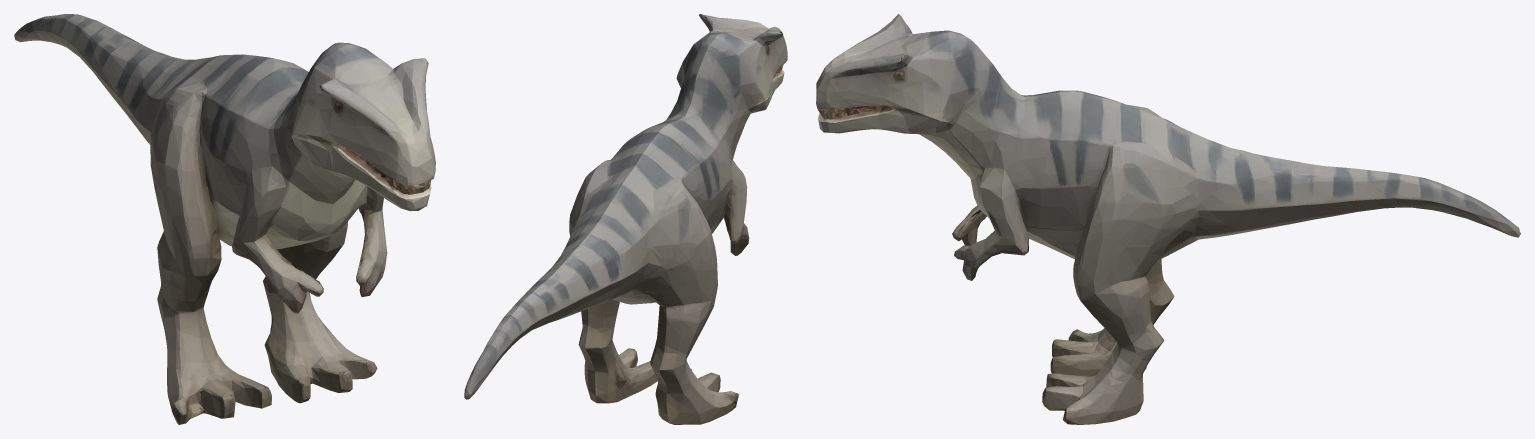
The model's file is giganotosaurus.glb.
3 renders of one model, left to right at view 1: azimuth 30°, elevation 25°; view 2: azimuth 150°, elevation 25°; view 3: azimuth 270°, elevation 25°, orthographic. The views are drawn at different scales.
Parts seen in each view (by area): view 1: geometry_0; view 2: geometry_0; view 3: geometry_0.
Part boxes in pixels (x1,y1,x2,y2): geometry_0: (14, 14, 435, 424); geometry_0: (464, 14, 787, 424); geometry_0: (816, 14, 1520, 424).
Bounding box in the file's own units: 0.2827 × 0.5684 × 1.
Materials: 1 (1 with a texture image).
